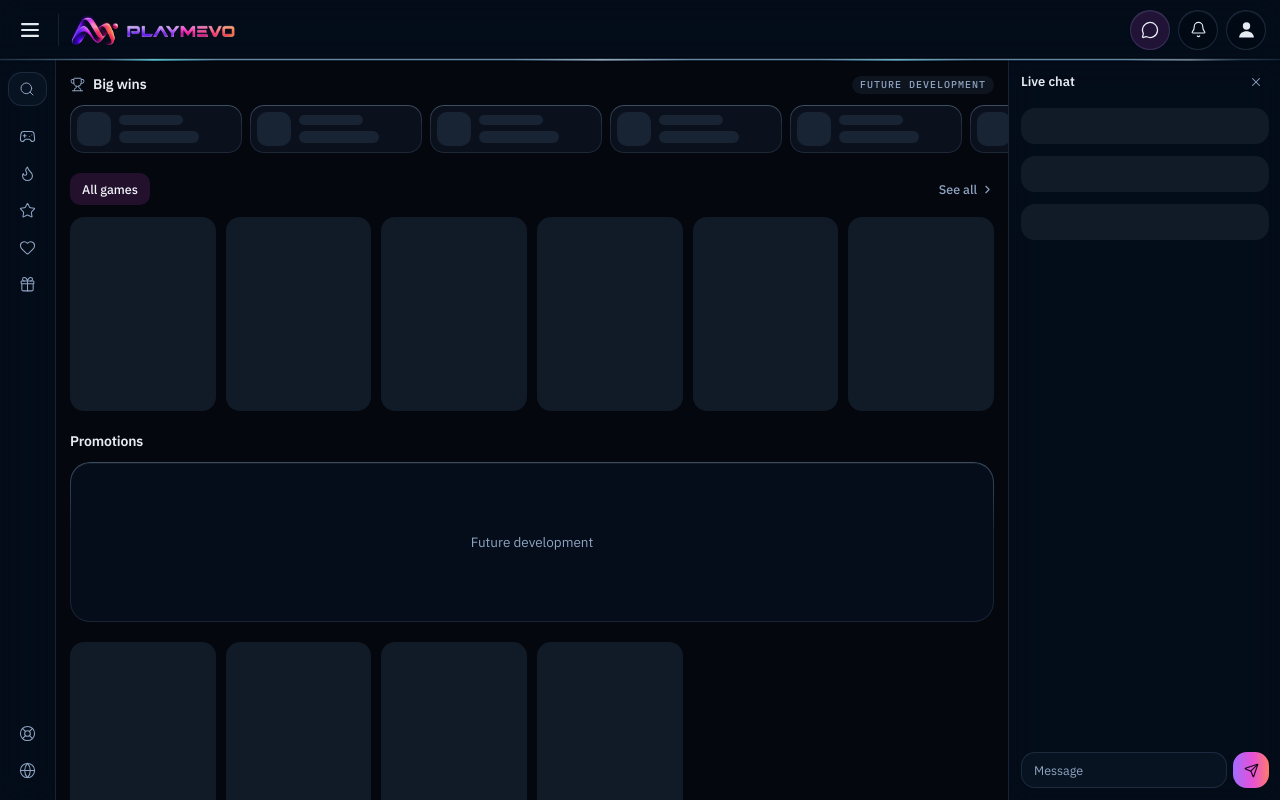
Scenario: the top bar for a player › opens the account menu from the profile button and offers Account and Sign out
This screenshot has width=1280, height=800.
Step 1. Click the button named "Account menu" → (1246, 30), box x1=1226 y1=10 x2=1266 y2=50
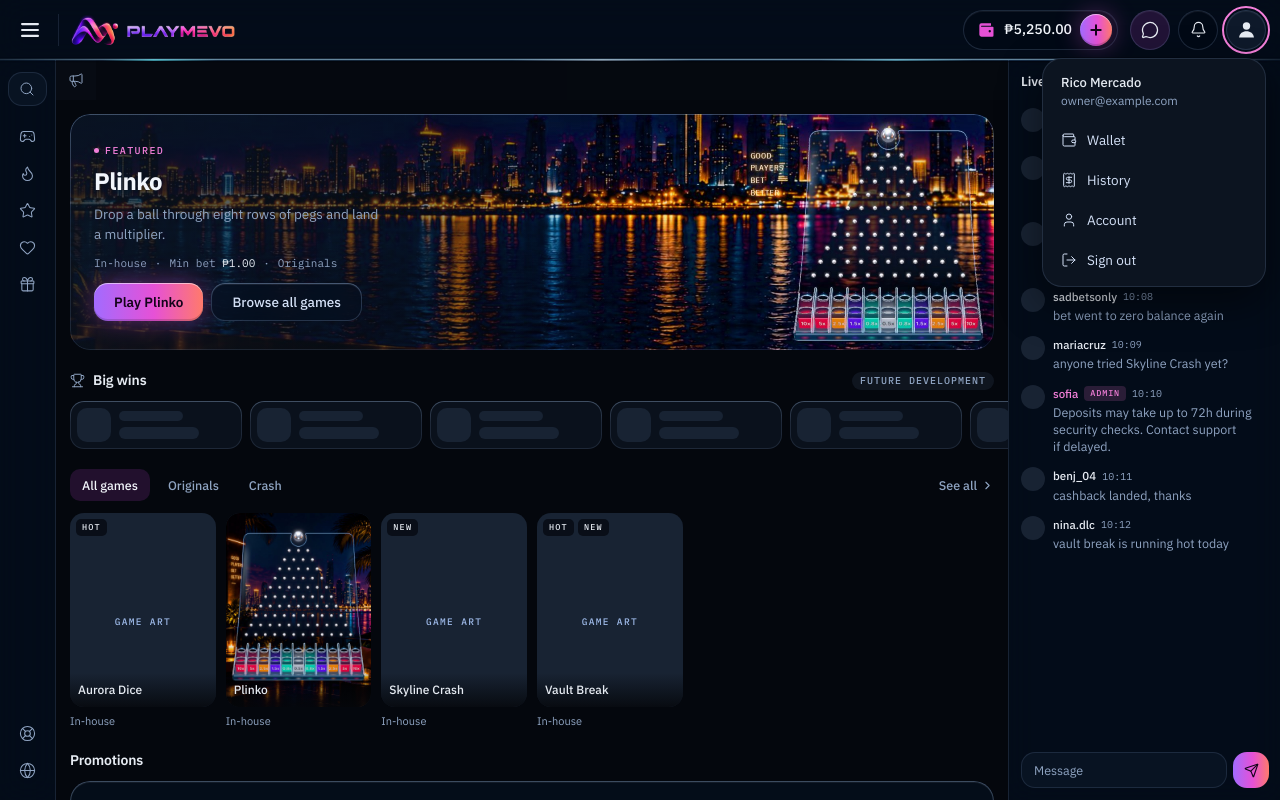
Expected: the button "Sign out" is shown, x1=1049 y1=240 x2=1259 y2=280
